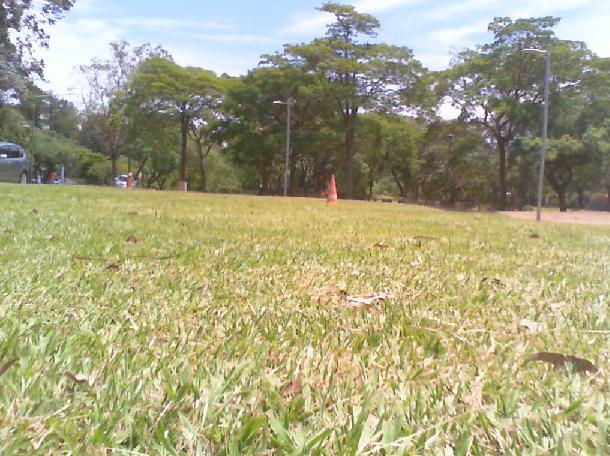0 cone: (326, 174, 340, 203), (126, 170, 133, 189)
